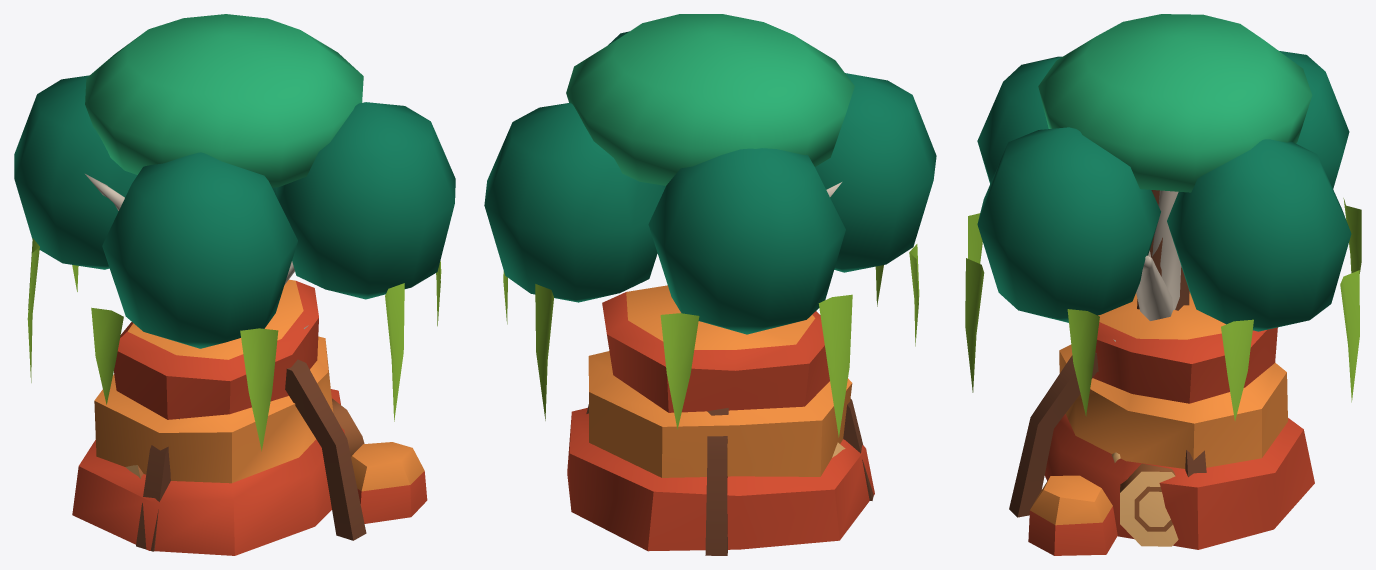
The model's file is wilds.glb.
3 renders of one model, left to right at view 1: azimuth 30°, elevation 25°; view 2: azimuth 150°, elevation 25°; view 3: azimuth 270°, elevation 25°, orthographic. The views are drawn at different scales.
Visible parts, largest first — view 1: tree_swamp, rock_red, log; view 2: tree_swamp, rock_red; view 3: tree_swamp, rock_red, log, tree_dead.
Boxes of the visible parts, x1=… form: tree_swamp: x1=14, y1=14, x2=455, y2=551; rock_red: x1=72, y1=279, x2=427, y2=555; log: x1=125, y1=398, x2=364, y2=478; tree_swamp: x1=484, y1=14, x2=936, y2=555; rock_red: x1=567, y1=285, x2=874, y2=551; tree_swamp: x1=965, y1=14, x2=1361, y2=517; rock_red: x1=1028, y1=292, x2=1314, y2=555; log: x1=1111, y1=452, x2=1178, y2=546; tree_dead: x1=1113, y1=190, x2=1181, y2=341.
Bounding box in the file's own units: 2.72 × 3.41 × 2.72.
